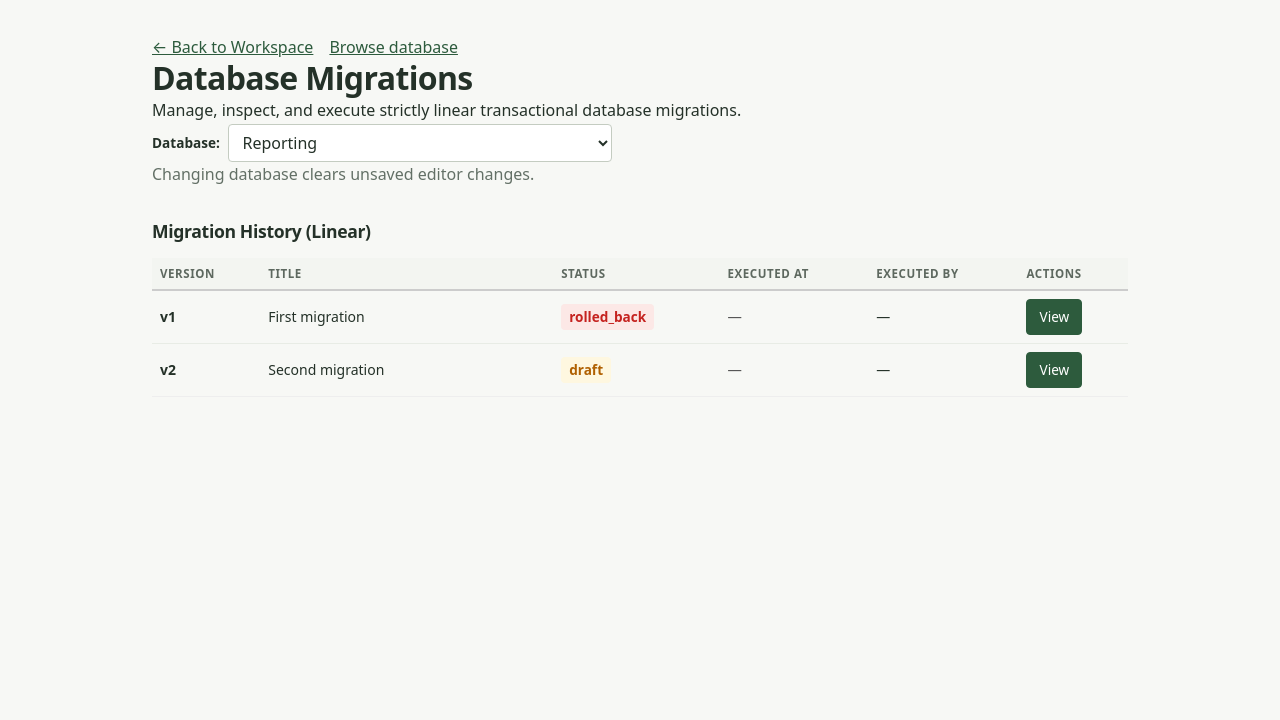
view-only users can inspect history without mutation controls
Expected: the text "First migration" is shown, [260,290,553,344]
Click the button "View" in the row of "First migration" at (1054, 317), box [1026,299,1082,335]
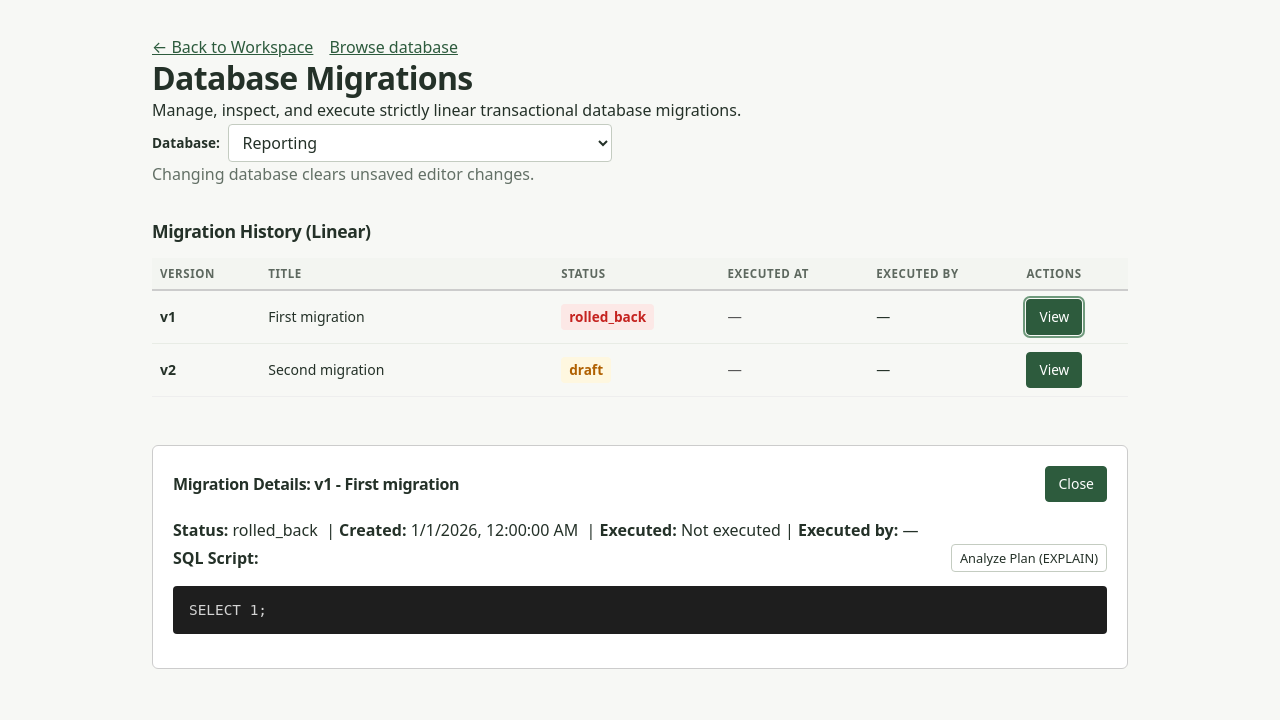
Expected: the text "SELECT 1;" is shown, [173,586,1107,634]
